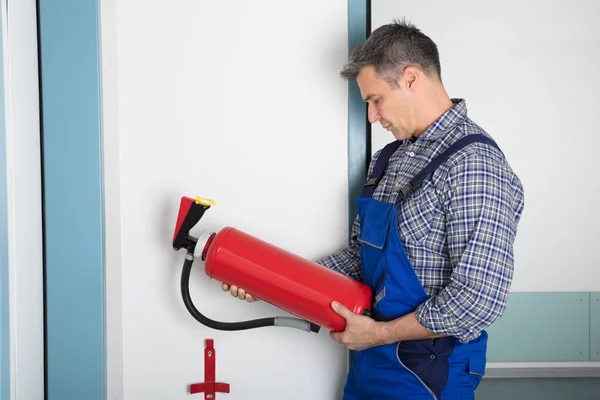fire_extinguisher: (172, 195, 374, 334)
